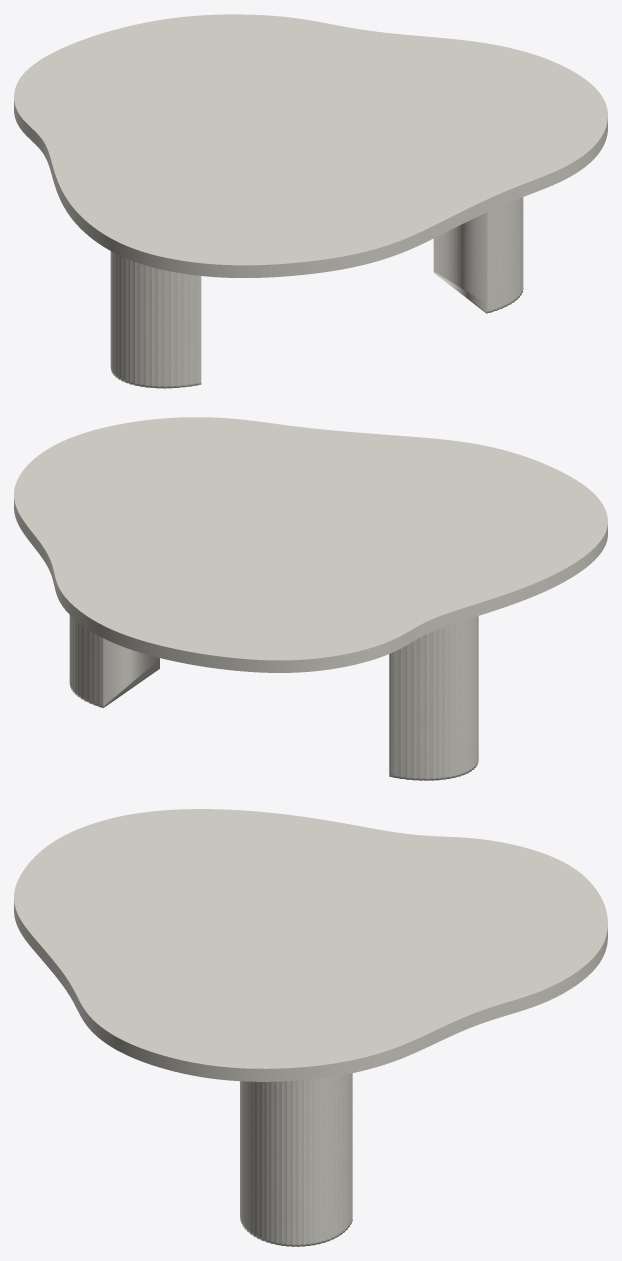
The model's file is pale_topone_standard_flute.glb.
The picture shows the model from 3 angles, top to bottom: view 1: azimuth 30°, elevation 25°; view 2: azimuth 150°, elevation 25°; view 3: azimuth 270°, elevation 25°; orthographic projection. The views are drawn at different scales.
Visible parts, largest first — view 1: standard_topone, flute; view 2: standard_topone, flute; view 3: standard_topone, flute.
Boxes of the visible parts, box(x1,y1,x2,y2) form: standard_topone: box(14, 14, 607, 277); flute: box(110, 197, 523, 388); standard_topone: box(14, 417, 607, 672); flute: box(69, 615, 478, 780); standard_topone: box(14, 809, 607, 1081); flute: box(240, 1073, 352, 1246).
Size of the model in its own units: 6.83 by 2.5 by 6.6.
1 material, 1 textured.
